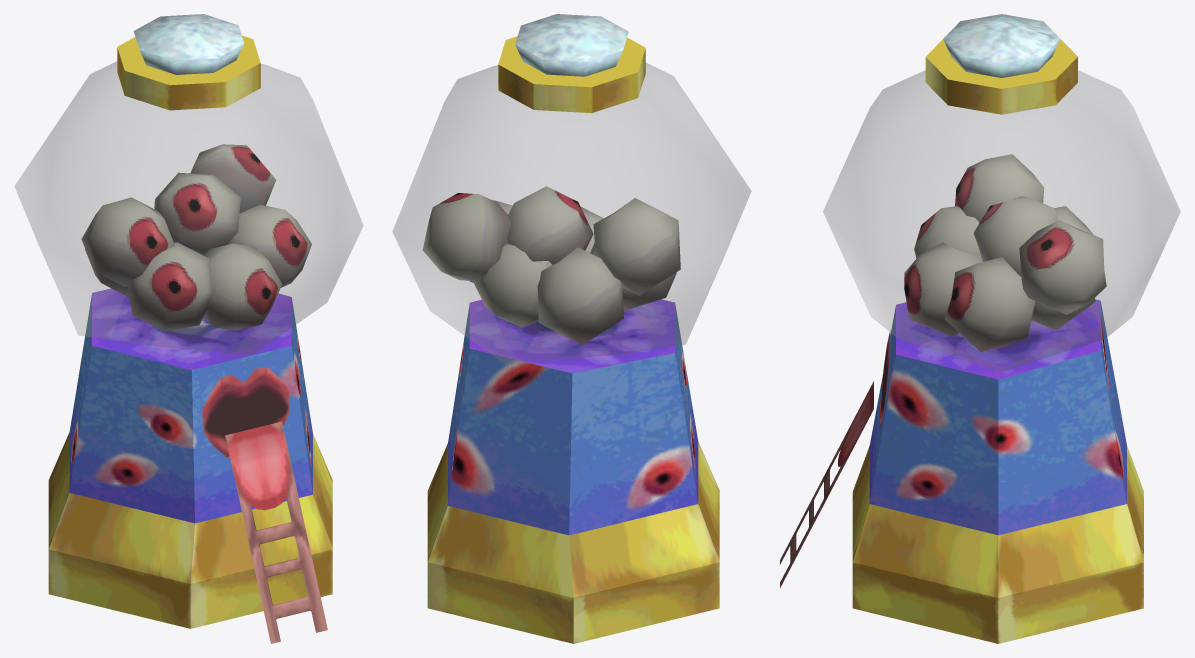
File: Gachapon 1.fbx
3 views of the same model, side by side, from view 1: azimuth 30°, elevation 25°; view 2: azimuth 150°, elevation 25°; view 3: azimuth 270°, elevation 25° (orthographic). The views are drawn at different scales.
Parts seen in each view (by area): view 1: Vidrio, Base, Ojos; view 2: Vidrio, Base, Ojos; view 3: Vidrio, Base, Ojos.
Part boxes in pixels (x1,y1,x2,y2): Vidrio: (14,14,363,354); Base: (48,288,332,643); Ojos: (81,144,311,331); Vidrio: (392,14,751,364); Base: (427,299,719,643); Ojos: (422,186,680,345); Vidrio: (823,14,1180,371); Base: (780,299,1143,643); Ojos: (904,154,1106,351).
Size of the model in its own units: 2.76 by 4.64 by 3.09.
